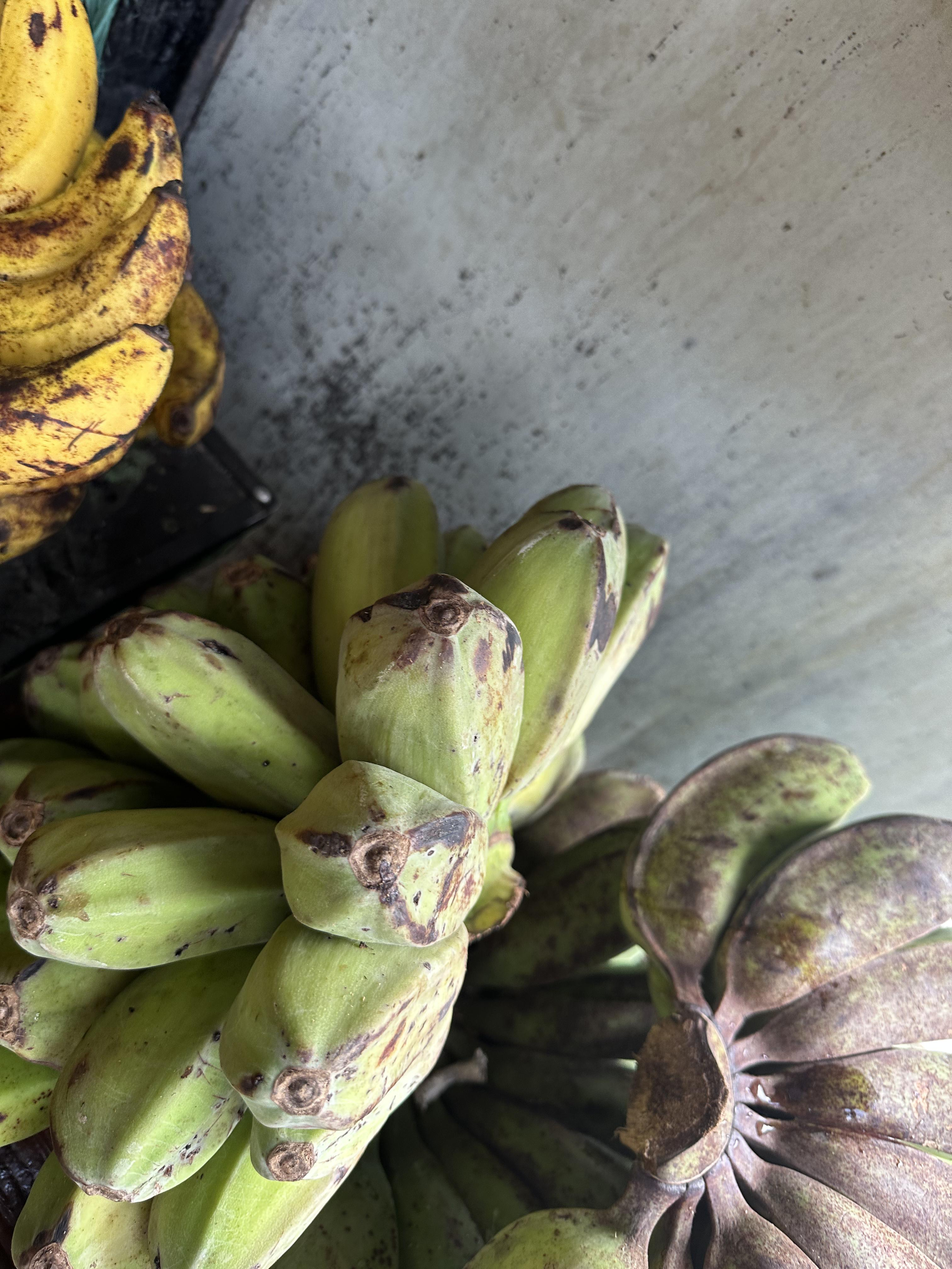underripe: (0, 474, 672, 1269), (460, 732, 952, 1269), (269, 770, 671, 1269)
